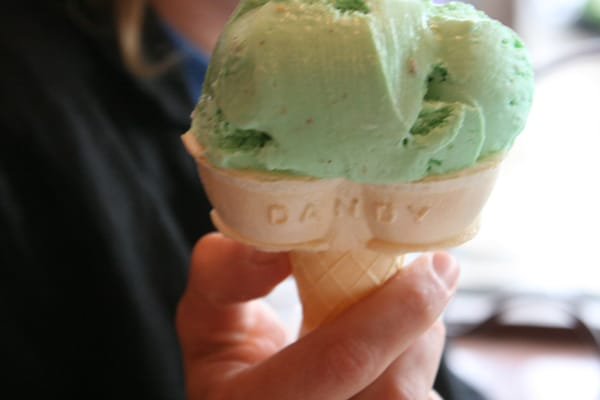pizza: (173, 232, 463, 394)
